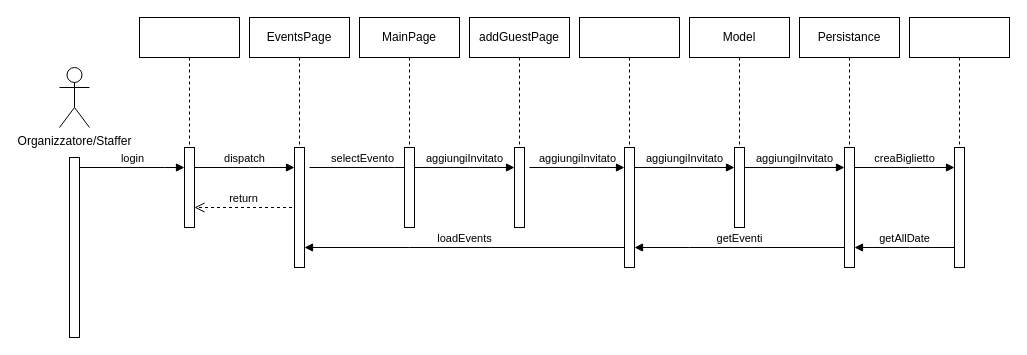
The diagram is 1027 pixels wide and 355 high, and some of its shapes have lost their labels. The shapes that lost their labels are listed below. From the top down, each one's box as (x1, y1, x2, y2) in pixels, then its label:
(138, 16, 240, 228): LoginPage
(578, 16, 680, 228): Controller
(908, 16, 1010, 228): BigliettoDAO
